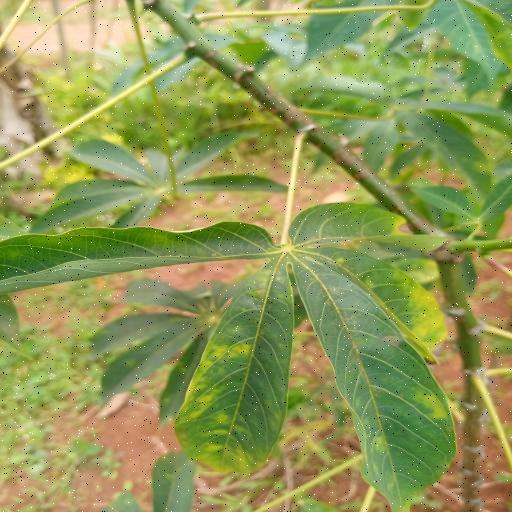Cassava_Mosaic: (0, 199, 472, 512)
